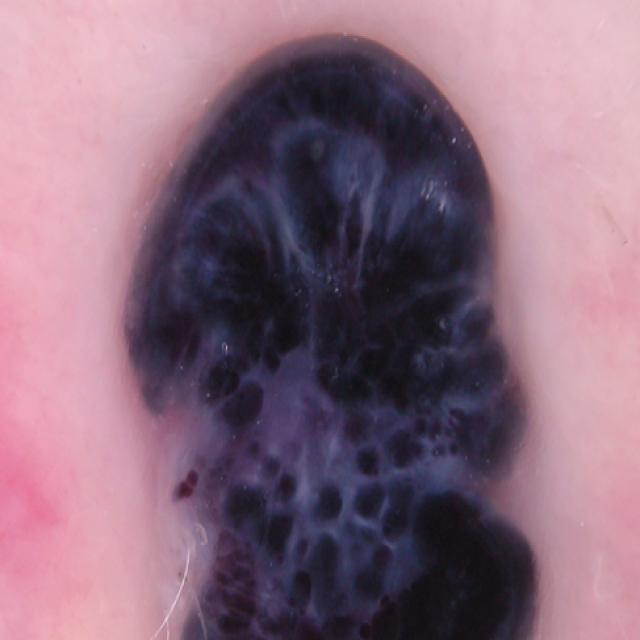Vascular Lesions: (62, 17, 608, 640)
